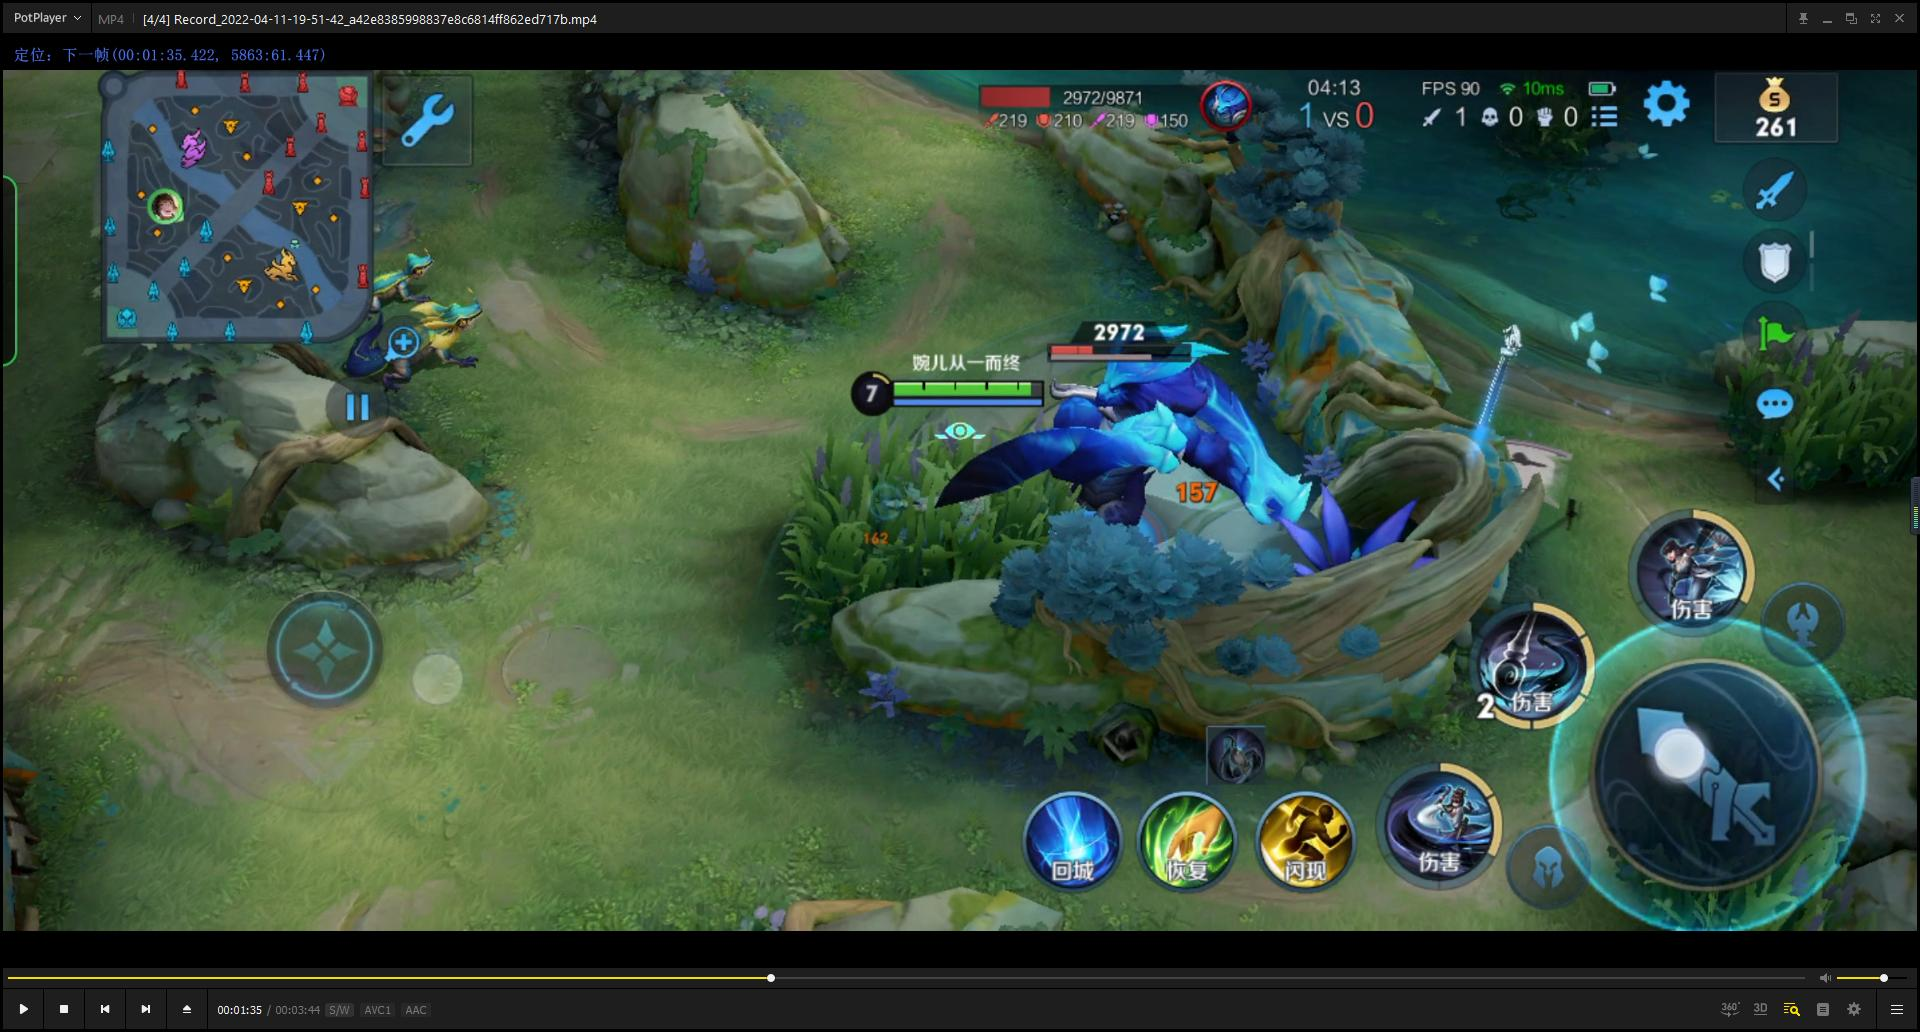Buff: (895, 283, 1332, 630)
Lizard: (355, 280, 494, 411), (360, 239, 447, 311)
